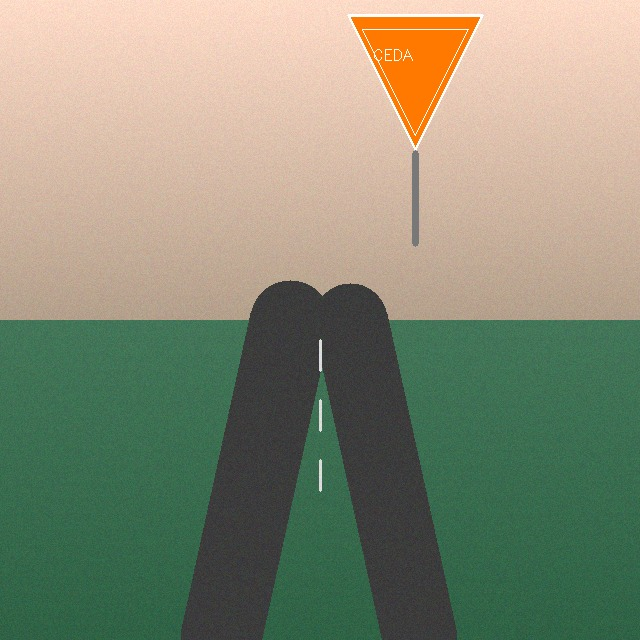ceda_el_paso: (344, 11, 486, 153)
